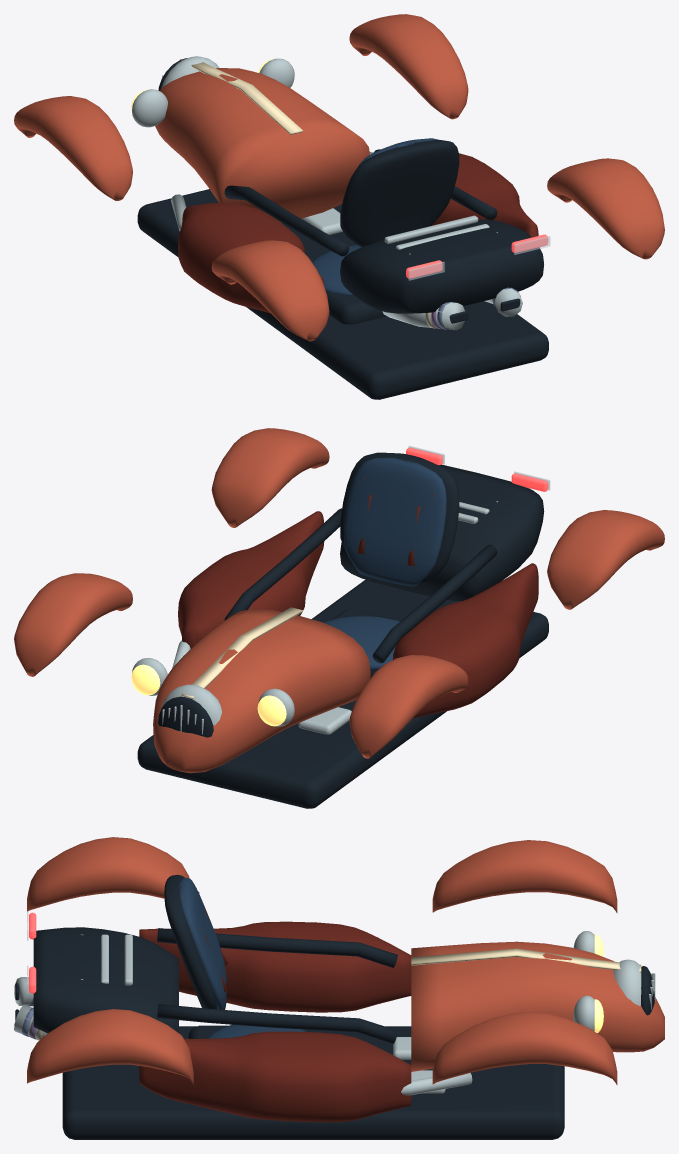
The model's file is kupferpfeil.glb.
3 renders of one model, top to bottom at view 1: azimuth 30°, elevation 25°; view 2: azimuth 150°, elevation 25°; view 3: azimuth 270°, elevation 25°, orthographic. The views are drawn at different scales.
Visible parts, largest first — view 1: LOD0, ShowroomDetail; view 2: LOD0; view 3: LOD0, ShowroomDetail.
Boxes of the visible parts, x1,y1,x2,y2 form: LOD0: (14, 14, 664, 399); ShowroomDetail: (408, 236, 550, 329); LOD0: (14, 428, 664, 808); LOD0: (14, 837, 664, 1139); ShowroomDetail: (22, 891, 199, 1040).
Size of what is drawn, in the model's own units: 1.84 by 0.868 by 2.46.
